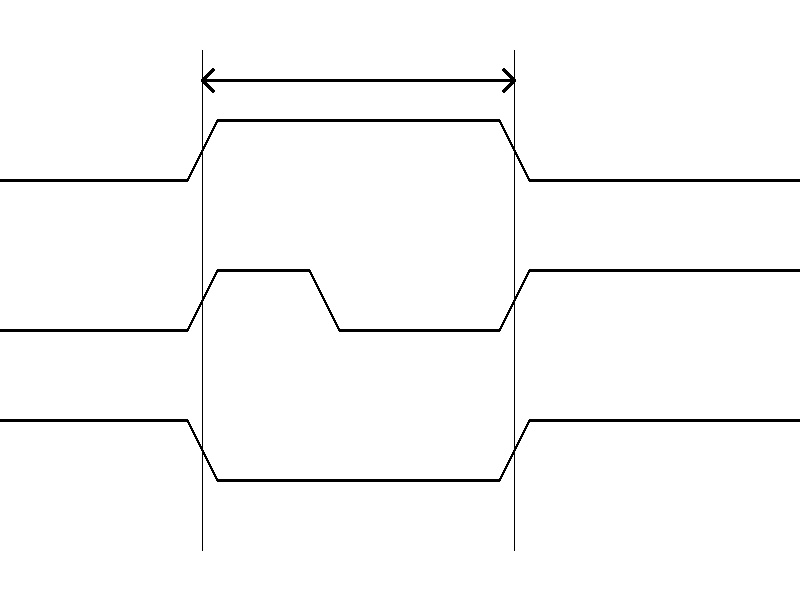double_arrow: (202, 65, 514, 95)
